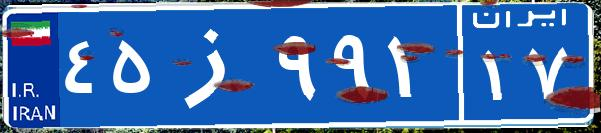1: (385, 28, 445, 110), (475, 38, 525, 113)
4: (57, 26, 110, 107)
5: (110, 28, 158, 105)
7: (525, 38, 570, 115)
9: (273, 28, 330, 110), (330, 28, 385, 110)
ز: (158, 15, 273, 115)
